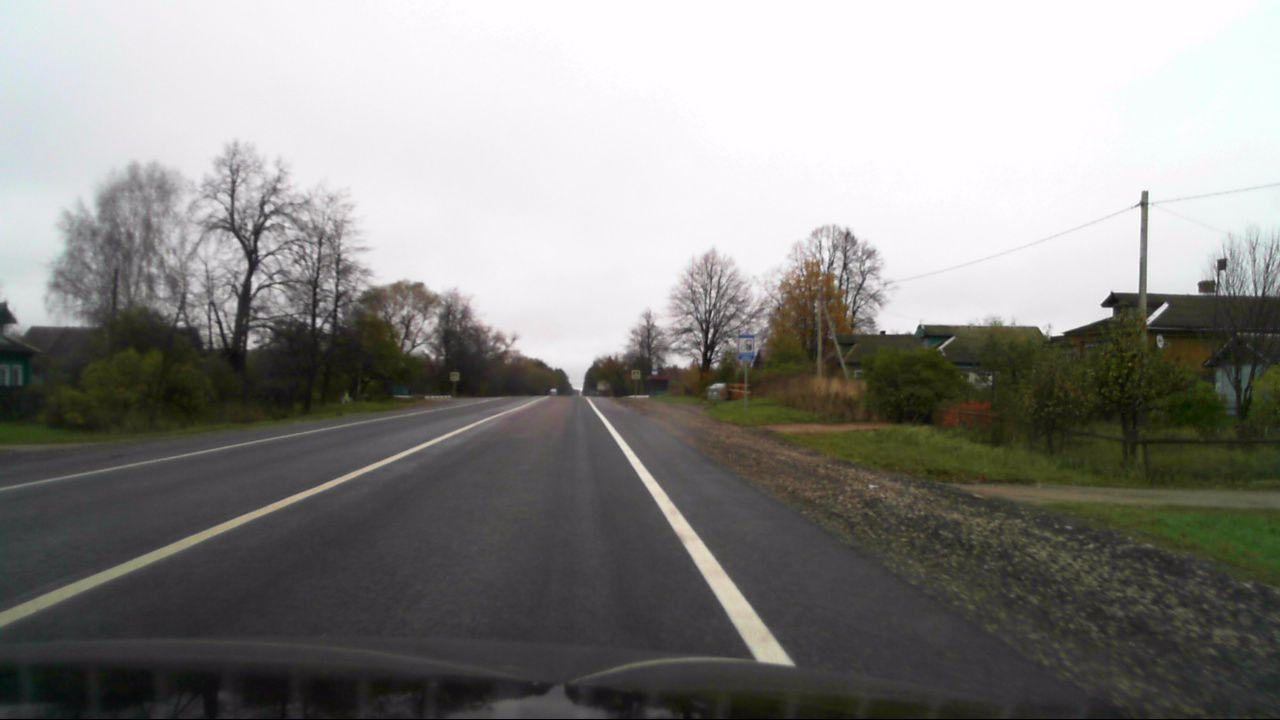7_3: (738, 334, 755, 359)
